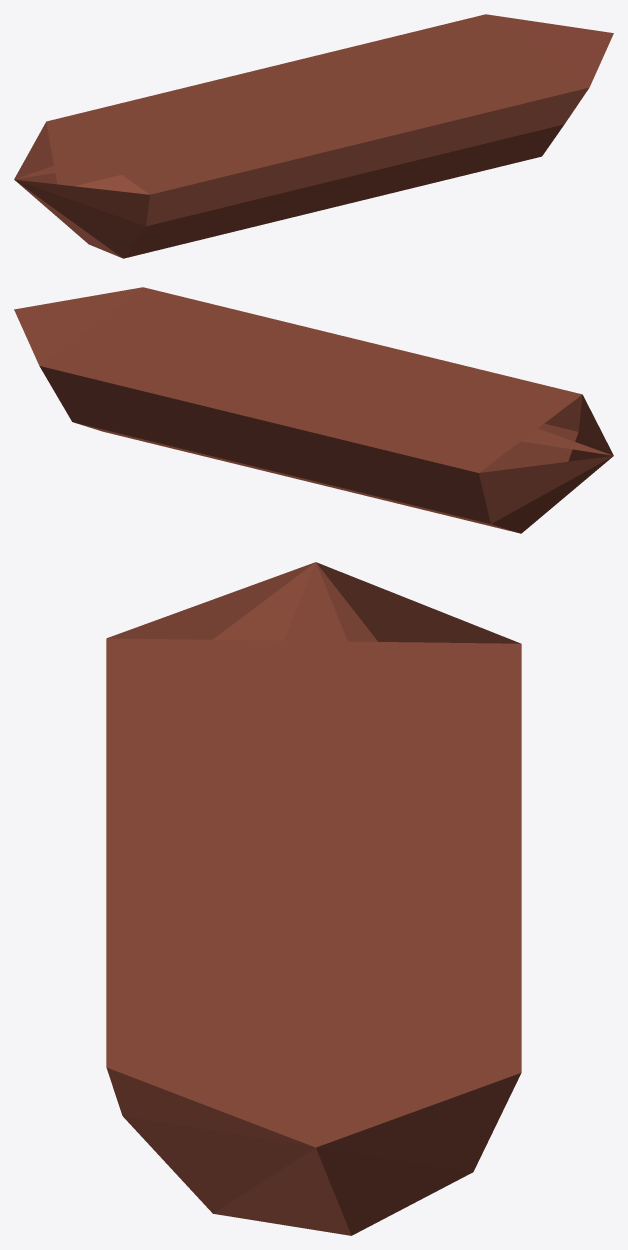
The model's file is MainMenuBoat.gltf.
3 renders of one model, top to bottom at view 1: azimuth 30°, elevation 25°; view 2: azimuth 150°, elevation 25°; view 3: azimuth 270°, elevation 25°, orthographic. The views are drawn at different scales.
Parts seen in each view (by area): view 1: cylinder; view 2: cylinder; view 3: cylinder.
Boxes of the visible parts, x1,y1,x2,y2 form: cylinder: (14, 14, 613, 258); cylinder: (14, 287, 613, 533); cylinder: (106, 562, 521, 1235).
Bounding box in the file's own units: 5.38 × 0.809 × 1.61.
Materials: 1 (1 with a texture image).
